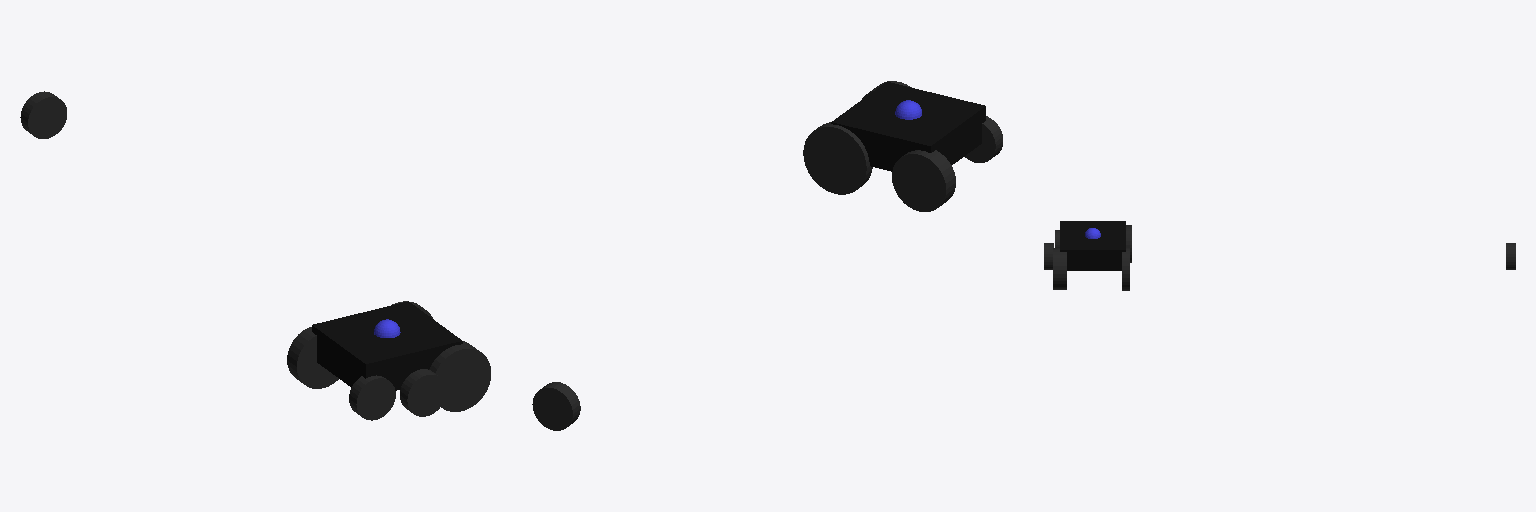
The robot description file, URDF, robot "evolved_robot":
<?xml version="1.0"?>
<robot name="evolved_robot">
  <material name="metal">
    <color rgba="0.7 0.7 0.7 1.0"/>
  </material>
  <material name="plastic">
    <color rgba="0.3 0.3 0.9 1.0"/>
  </material>
  <material name="rubber">
    <color rgba="0.1 0.1 0.1 1.0"/>
  </material>
  <material name="red">
    <color rgba="1.0 0.0 0.0 1.0"/>
  </material>
  <material name="wheel_material">
    <color rgba="0.2 0.2 0.2 1.0"/>
  </material>
  <link name="base_link">
    <visual>
      <geometry><box size="0.2948954146200996 0.284705658055604 0.09845230138613015"/></geometry>
      <material name="rubber"/>
    </visual>
    <collision>
      <geometry><box size="0.2948954146200996 0.284705658055604 0.09845230138613015"/></geometry>
    </collision>
    <inertial>
      <mass value="5.0"/>
      <inertia ixx="0.07562513948091659" ixy="0" ixz="0" 
               iyy="0.08054680101015488" iyz="0" 
               izz="0.14001718107736247"/>
    </inertial>
  </link>
  <link name="link1">
    <visual>
      <geometry><sphere radius="0.03530490429065651"/></geometry>
      <material name="plastic"/>
    </visual>
    <collision>
      <geometry><sphere radius="0.03530490429065651"/></geometry>
    </collision>
    <inertial>
      <mass value="0.5"/>
      <inertia ixx="0.0004985745067889666" ixy="0" ixz="0" 
               iyy="0.0004985745067889666" iyz="0" 
               izz="0.0004985745067889666"/>
    </inertial>
  </link>
  <joint name="joint1" type="revolute">
    <parent link="base_link"/>
    <child link="link1"/>
    <origin xyz="0 0 0.049226150693065074" rpy="0 0 0"/>
    <axis xyz="-0.5308063007758063 0.7191951226649897 0.4483336331255938"/>
    <dynamics damping="0.6115535552938522" friction="0.1"/>
    <limit lower="-2.0835182792395797" upper="2.76188711663542" effort="100" velocity="100"/>
  </joint>
  <link name="link2">
    <visual>
      <geometry>
        <cylinder radius="0.09418960225497841" length="0.032475999597429986"/>
      </geometry>
      <material name="wheel_material"/>
    </visual>
    <collision>
      <geometry>
        <cylinder radius="0.09418960225497841" length="0.032475999597429986"/>
      </geometry>
    </collision>
    <inertial>
      <mass value="1.0"/>
      <inertia ixx="0.002305811172392115" ixy="0" ixz="0" 
               iyy="0.002305811172392115" iyz="0" 
               izz="0.004435840586475517"/>
    </inertial>
  </link>
  <joint name="joint2" type="floating">
    <parent link="base_link"/>
    <child link="link2"/>
    <origin xyz="0.1274477073100498 0.142352829027802 -0.049226150693065074" rpy="1.5708 0 0"/>
    <axis xyz="0 1 0"/>
    <dynamics damping="0.5478074841919036" friction="0.1"/>
  </joint>
  <link name="link3">
    <visual>
      <geometry>
        <cylinder radius="0.09005475527012208" length="0.061566423299363626"/>
      </geometry>
      <material name="wheel_material"/>
    </visual>
    <collision>
      <geometry>
        <cylinder radius="0.09005475527012208" length="0.061566423299363626"/>
      </geometry>
    </collision>
    <inertial>
      <mass value="1.0"/>
      <inertia ixx="0.002343333443180097" ixy="0" ixz="0" 
               iyy="0.002343333443180097" iyz="0" 
               izz="0.00405492947338079"/>
    </inertial>
  </link>
  <joint name="joint3" type="floating">
    <parent link="base_link"/>
    <child link="link3"/>
    <origin xyz="0.1274477073100498 -0.142352829027802 -0.049226150693065074" rpy="1.5708 0 0"/>
    <axis xyz="0 1 0"/>
    <dynamics damping="0.902491799891723" friction="0.1"/>
  </joint>
  <link name="link4">
    <visual>
      <geometry>
        <cylinder radius="0.0806778040092723" length="0.051271169980886"/>
      </geometry>
      <material name="wheel_material"/>
    </visual>
    <collision>
      <geometry>
        <cylinder radius="0.0806778040092723" length="0.051271169980886"/>
      </geometry>
    </collision>
    <inertial>
      <mass value="1.0"/>
      <inertia ixx="0.0018462880875403805" ixy="0" ixz="0" 
               iyy="0.0018462880875403805" iyz="0" 
               izz="0.0032544540298792765"/>
    </inertial>
  </link>
  <joint name="joint4" type="floating">
    <parent link="base_link"/>
    <child link="link4"/>
    <origin xyz="-0.1274477073100498 0.142352829027802 -0.049226150693065074" rpy="1.5708 0 0"/>
    <axis xyz="0 1 0"/>
    <dynamics damping="0.1" friction="0.1"/>
  </joint>
  <link name="link5">
    <visual>
      <geometry>
        <cylinder radius="0.06" length="0.04"/>
      </geometry>
      <material name="wheel_material"/>
    </visual>
    <collision>
      <geometry>
        <cylinder radius="0.06" length="0.04"/>
      </geometry>
    </collision>
    <inertial>
      <mass value="1.0"/>
      <inertia ixx="0.0010333333333333334" ixy="0" ixz="0" 
               iyy="0.0010333333333333334" iyz="0" 
               izz="0.0018"/>
    </inertial>
  </link>
  <joint name="joint5" type="continuous">
    <parent link="base_link"/>
    <child link="link5"/>
    <origin xyz="-0.1274477073100498 -0.142352829027802 -0.049226150693065074" rpy="1.5708 0 0"/>
    <axis xyz="0 1 0"/>
    <dynamics damping="0.1" friction="0.1"/>
  </joint>
  <link name="link6">
    <visual>
      <geometry>
        <cylinder radius="0.06" length="0.04"/>
      </geometry>
      <material name="wheel_material"/>
    </visual>
    <collision>
      <geometry>
        <cylinder radius="0.06" length="0.04"/>
      </geometry>
    </collision>
    <inertial>
      <mass value="1.0"/>
      <inertia ixx="0.0010333333333333334" ixy="0" ixz="0" 
               iyy="0.0010333333333333334" iyz="0" 
               izz="0.0018"/>
    </inertial>
  </link>
  <joint name="joint6" type="continuous">
    <parent link="base_link"/>
    <child link="link6"/>
    <origin xyz="0 -0.18980377203706933 -0.049226150693065074" rpy="1.5708 0 0"/>
    <axis xyz="0 1 0"/>
    <dynamics damping="0.1" friction="0.1"/>
  </joint>
  <link name="link7">
    <visual>
      <geometry>
        <cylinder radius="0.06" length="0.04"/>
      </geometry>
      <material name="wheel_material"/>
    </visual>
    <collision>
      <geometry>
        <cylinder radius="0.06" length="0.04"/>
      </geometry>
    </collision>
    <inertial>
      <mass value="1.0"/>
      <inertia ixx="0.0010333333333333334" ixy="0" ixz="0" 
               iyy="0.0010333333333333334" iyz="0" 
               izz="0.0018"/>
    </inertial>
  </link>
  <joint name="joint7" type="continuous">
    <parent link="base_link"/>
    <child link="link7"/>
    <origin xyz="0 1.8101962279629307 -0.049226150693065074" rpy="1.5708 0 0"/>
    <axis xyz="0 1 0"/>
    <dynamics damping="0.1" friction="0.1"/>
  </joint>
</robot>

--- Render facts (derived) ---
3 views of the same robot in one strip: view 1: azimuth 30°, elevation 25°; view 2: azimuth 150°, elevation 25°; view 3: azimuth 270°, elevation 25° (orthographic).
Model evolved_robot with 8 links and 7 joints (1 revolute, 3 continuous, 3 floating), rooted at base_link, posed all joints at 0.
Visible links, largest first — view 1: base_link, link3, link4, link6, link7, link5; view 2: base_link, link2, link4, link7, link5; view 3: base_link, link3.
Boxes of the visible links, x1,y1,x2,y2 form: base_link: (312,301,462,390); link3: (429,341,490,411); link4: (287,327,338,388); link6: (400,369,446,416); link7: (20,91,66,138); link5: (349,375,395,420); base_link: (831,82,985,171); link2: (803,122,872,194); link4: (892,150,955,211); link7: (532,382,580,430); link5: (964,116,1002,162); base_link: (1060,221,1125,270); link3: (1053,248,1066,289).
Bounding box of the posed robot: 0.4298 × 2.04 × 0.2279 m (x, y, z).
Geometry: primitives only (box / cylinder / sphere), no mesh files.